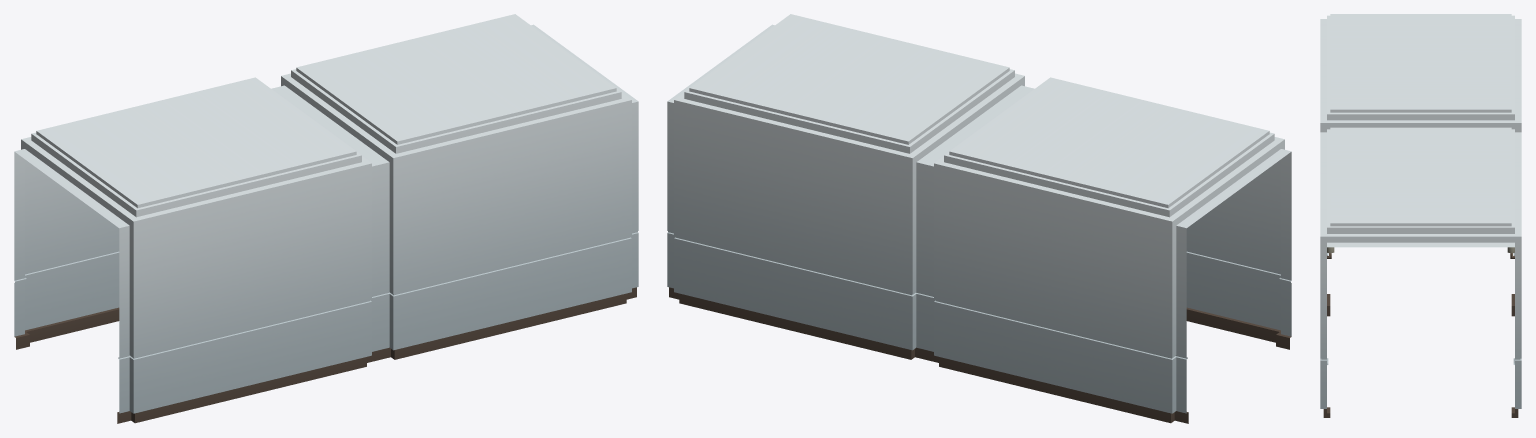
File: 8m_hallway.fbx
The picture shows the model from 3 angles, left to right: view 1: azimuth 30°, elevation 25°; view 2: azimuth 150°, elevation 25°; view 3: azimuth 270°, elevation 25°; orthographic projection. The views are drawn at different scales.
Parts seen in each view (by area): view 1: 8m_hallway; view 2: 8m_hallway; view 3: 8m_hallway.
Boxes of the visible parts, x1,y1,x2,y2 form: 8m_hallway: (14,14,638,423); 8m_hallway: (667,14,1291,423); 8m_hallway: (1320,14,1521,417).
Bounding box in the file's own units: 800 × 315 × 300.
